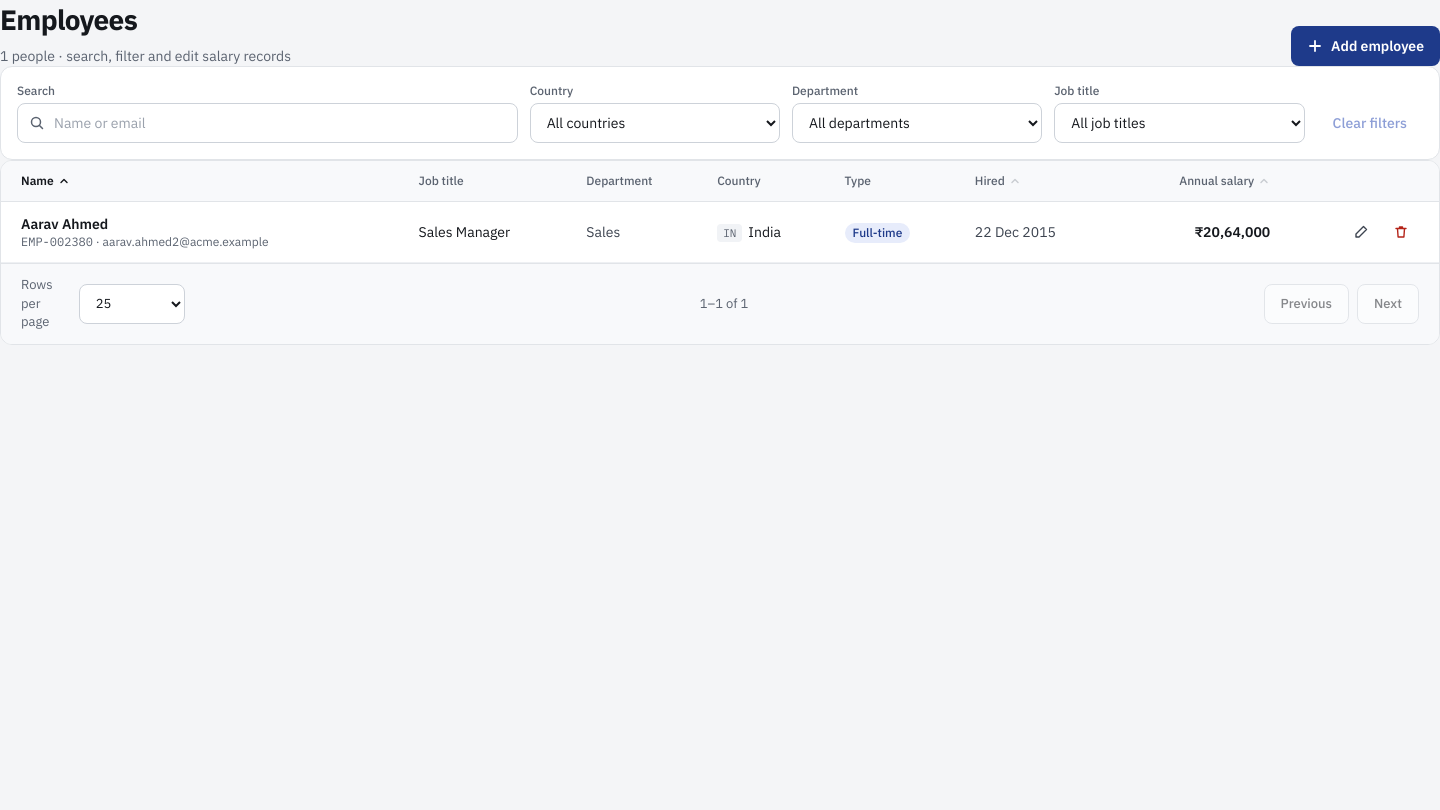
Employee form › edits an existing employee with the current values filled in
The image size is (1440, 810).
Click the button named "Edit Aarav Ahmed". click: coordinates (1361, 232)
box: [1343,214,1379,250]
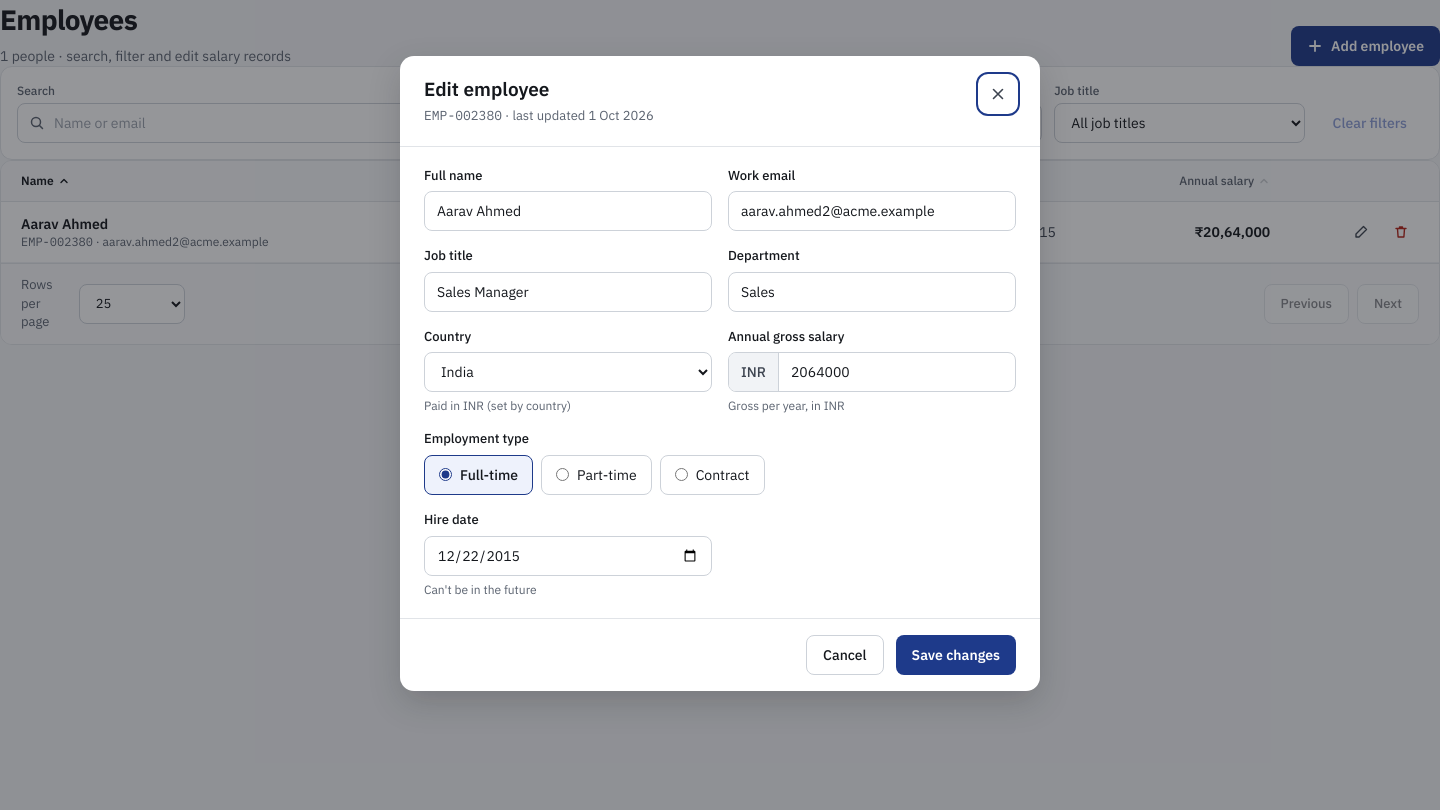
Expected: the field labelled "Annual gross salary" holds "2064000"
Replace the text in the field labelled "Annual gross salary" with "22,00,000". click: coordinates (897, 372)
box: [779,353,1015,391]
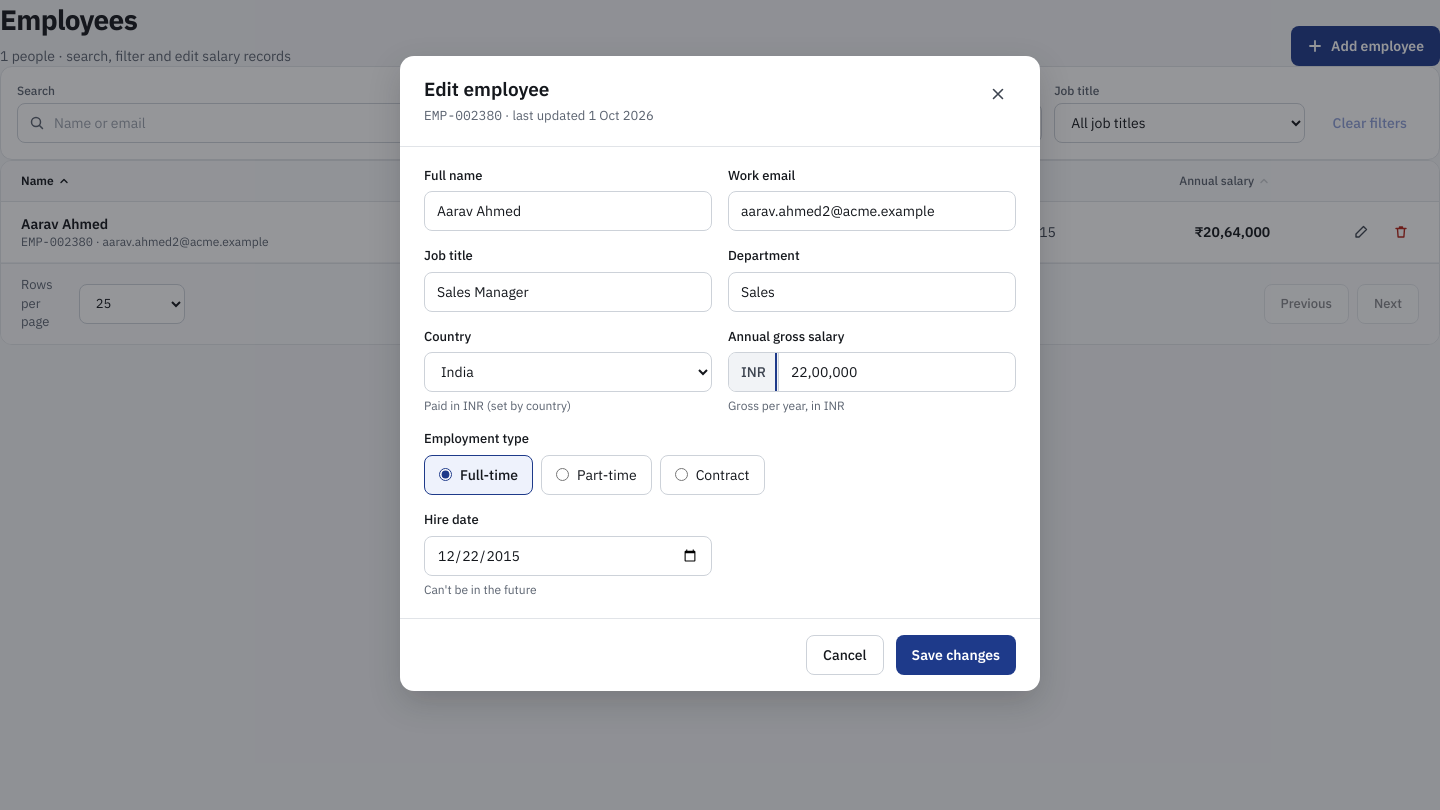
Click the button "Save changes". click: coordinates (956, 654)
box: [896,634,1016,674]
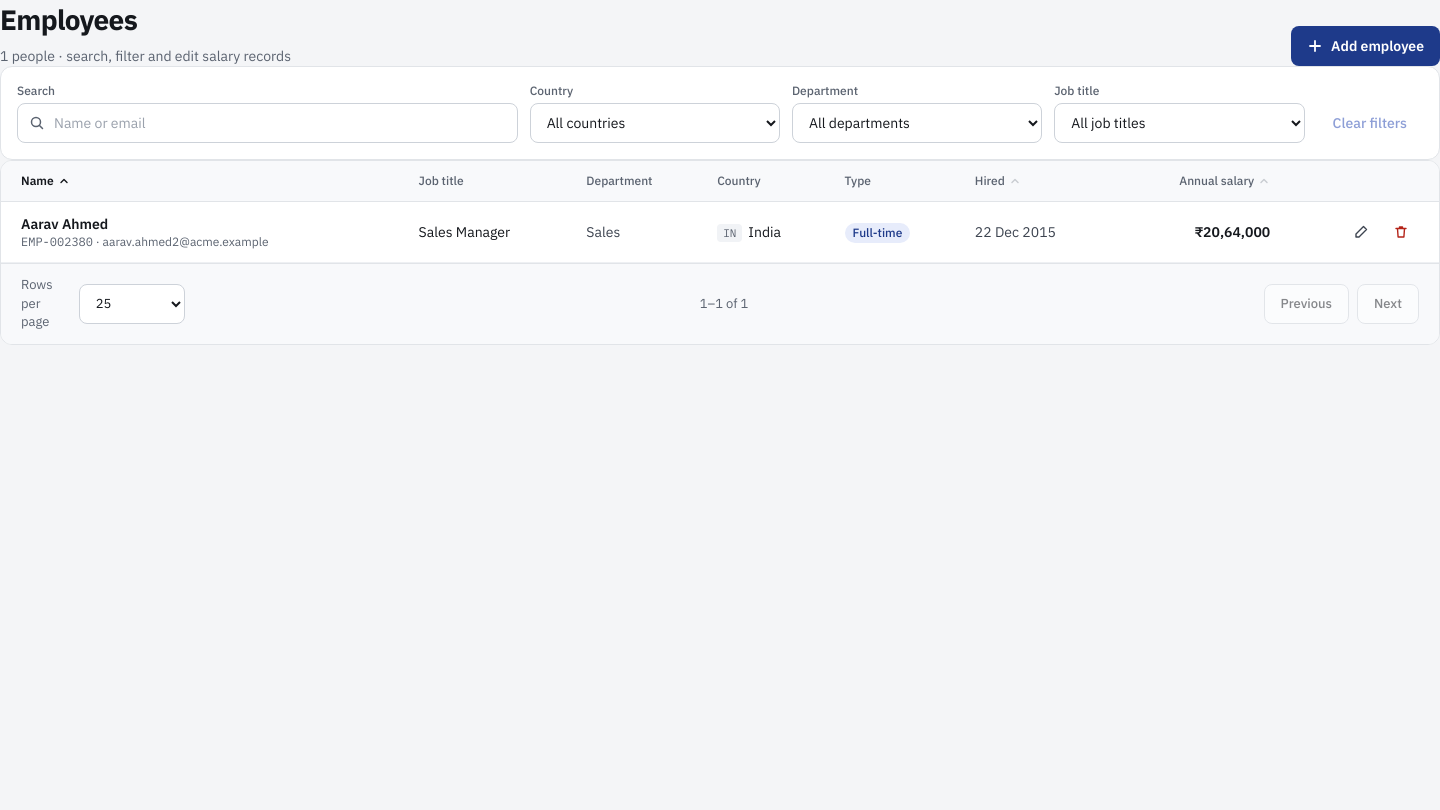
Expected: the dialog is gone
